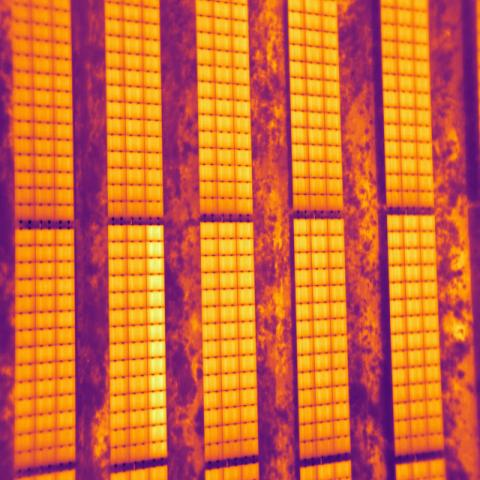fault: (146, 222, 168, 460)
